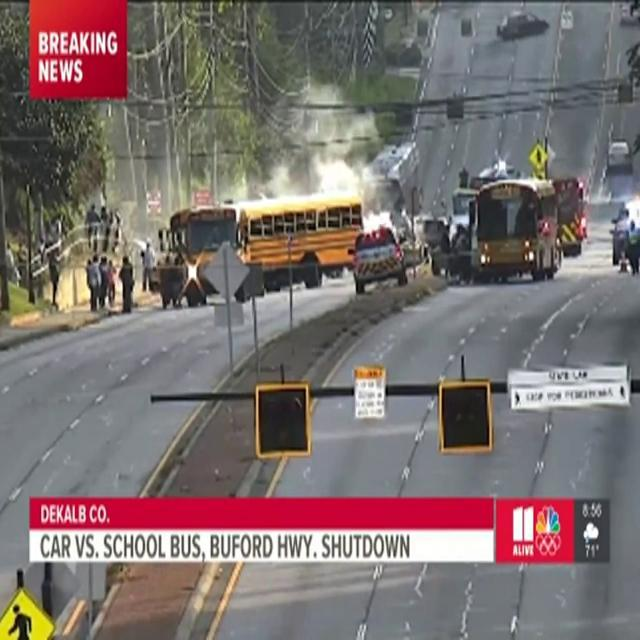Smoke: (235, 74, 408, 213)
